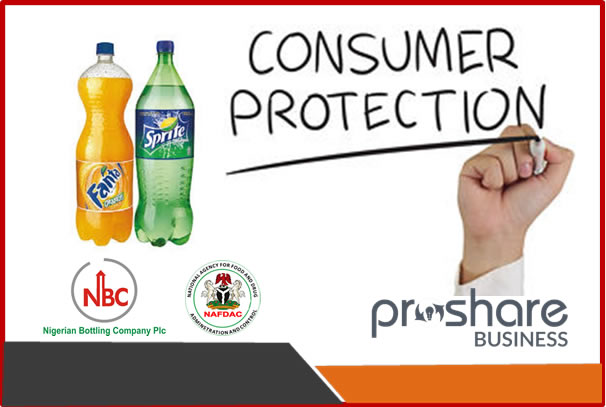sprite: (144, 121, 184, 149)
